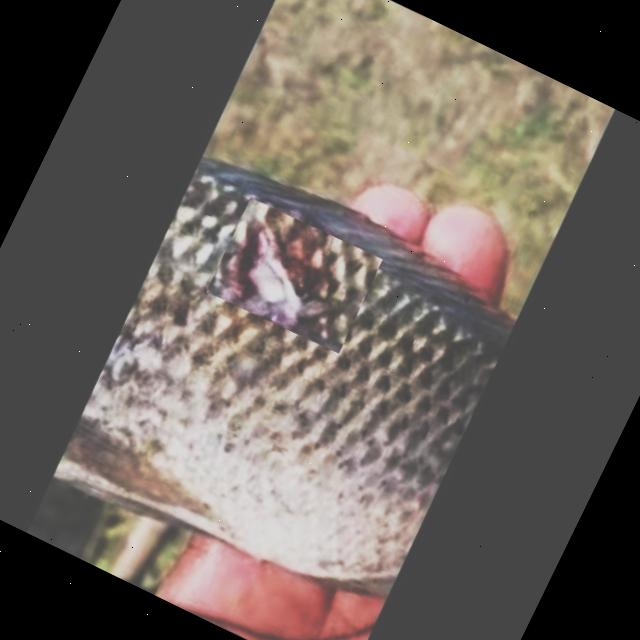Aeromonas Septicemia: (55, 156, 515, 598)
